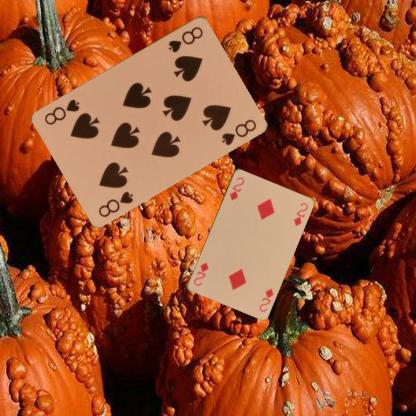2d: (227, 174, 246, 202), (256, 286, 274, 313)
8s: (96, 188, 136, 218), (166, 23, 204, 54)
